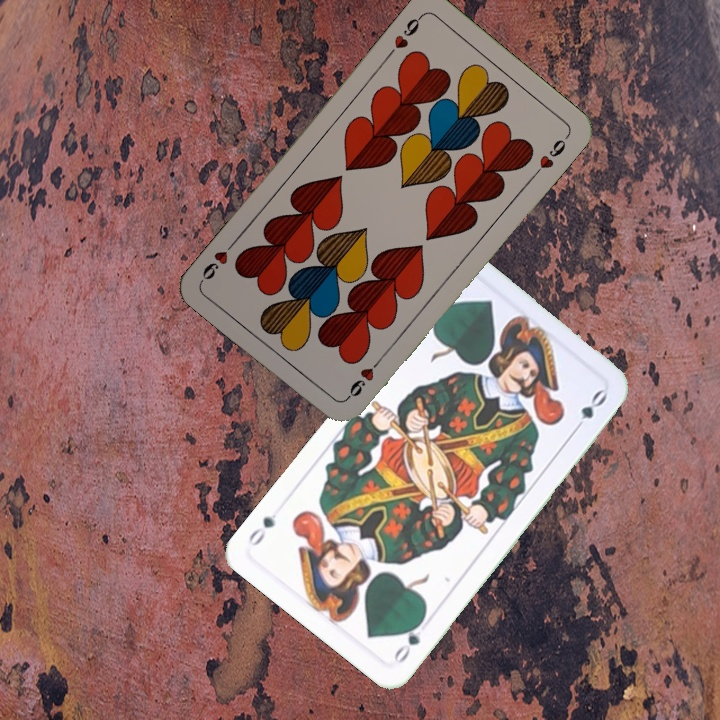GO: (390, 614, 427, 666)
H9: (382, 11, 425, 60), (342, 353, 384, 403)
